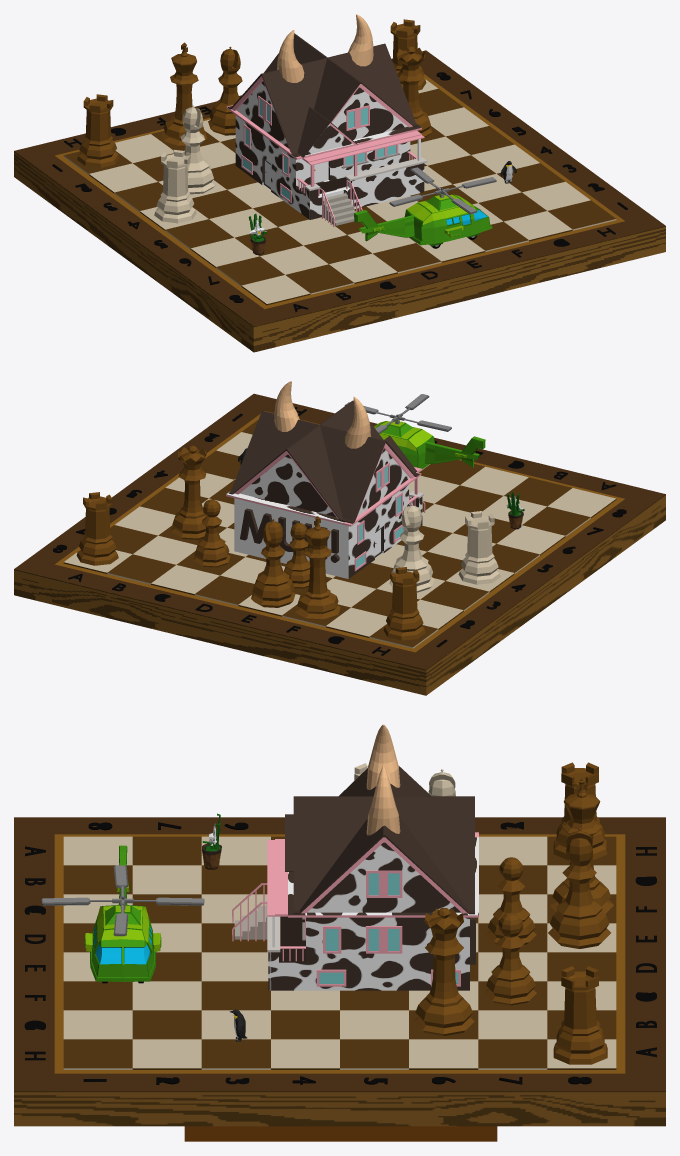
3 views of the same model, one above another, from view 1: azimuth 30°, elevation 25°; view 2: azimuth 150°, elevation 25°; view 3: azimuth 270°, elevation 25° (orthographic). The views are drawn at different scales.
Parts seen in each view (by area): view 1: Cube.002, Cube.1242, VEHICLES_HELICOPTER, OBJRANDOM_MONJA BLANCA; view 2: Cube.002, Cube.1242, VEHICLES_HELICOPTER, OBJRANDOM_MONJA BLANCA; view 3: Cube.002, Cube.1242, VEHICLES_HELICOPTER, UNDERGROUND_ART_PIECE_VAN_GOGH, OBJRANDOM_MONJA BLANCA.
Boxes of the visible parts, left/top/right/bottom form: Cube.002: left=14, top=19, right=665, bottom=352; Cube.1242: left=226, top=14, right=427, bottom=226; VEHICLES_HELICOPTER: left=354, top=167, right=496, bottom=248; OBJRANDOM_MONJA BLANCA: left=248, top=213, right=267, bottom=255; Cube.002: left=14, top=393, right=665, bottom=695; Cube.1242: left=226, top=381, right=425, bottom=578; VEHICLES_HELICOPTER: left=344, top=394, right=485, bottom=469; OBJRANDOM_MONJA BLANCA: left=506, top=492, right=524, bottom=529; Cube.002: left=14, top=762, right=665, bottom=1126; Cube.1242: left=232, top=724, right=478, bottom=990; VEHICLES_HELICOPTER: left=41, top=845, right=204, bottom=983; UNDERGROUND_ART_PIECE_VAN_GOGH: left=184, top=1126, right=497, bottom=1141; OBJRANDOM_MONJA BLANCA: left=202, top=813, right=221, bottom=869.
Bounding box in the file's own units: 3981 × 1869 × 4012.
Materials: 40 (3 with a texture image).
